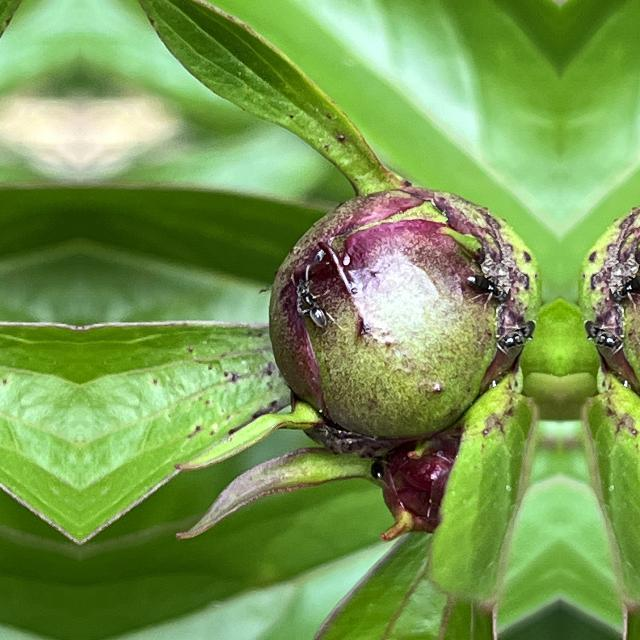Tapinoma: (287, 268, 331, 332), (462, 258, 514, 312), (492, 312, 542, 364), (578, 312, 628, 364), (604, 258, 640, 312)
